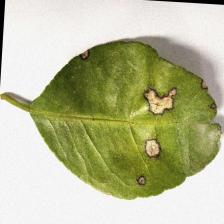canker: (71, 43, 215, 193)
